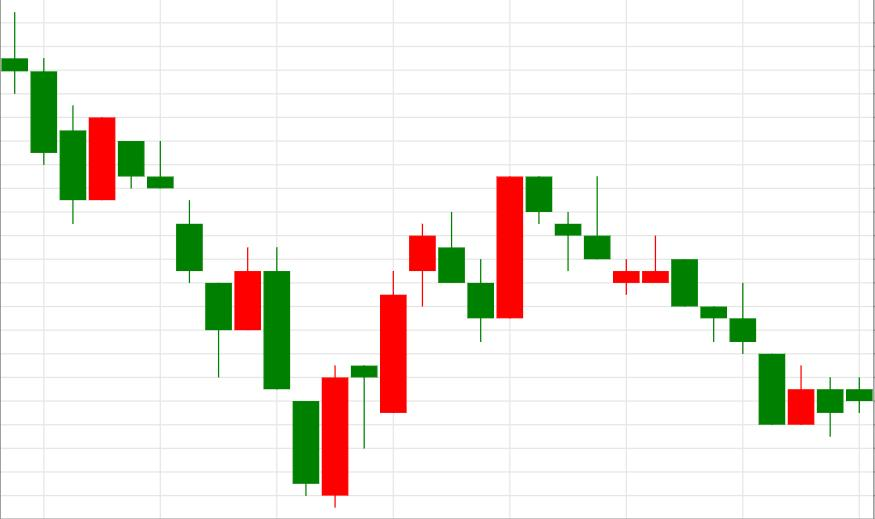bullish_engulfing_rise: (118, 141, 349, 507)
